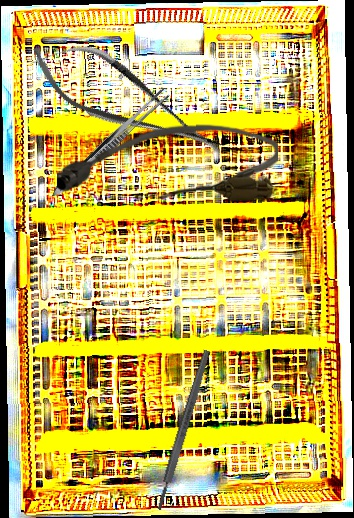Cannula: (56, 123, 279, 205)
Dressing Forceps: (48, 84, 172, 202)
Micro Scissor: (17, 20, 237, 182)
Scalpel Handle: (153, 349, 213, 511)
